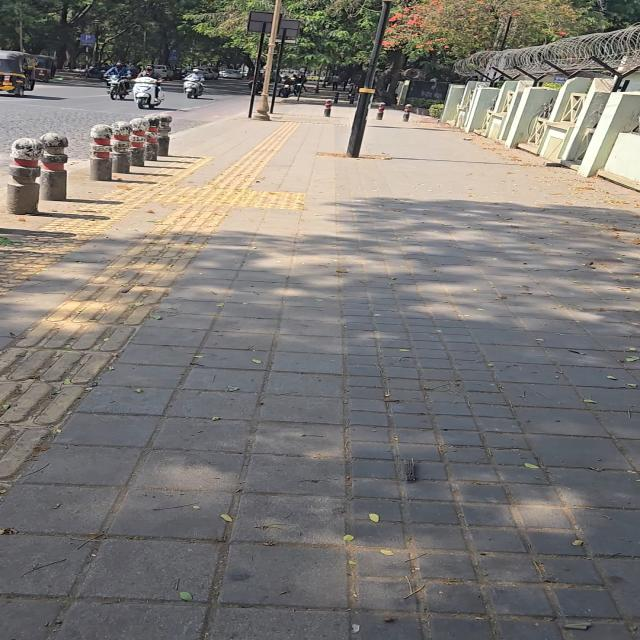bench: (7, 138, 43, 214), (40, 133, 68, 200), (90, 125, 111, 181), (112, 121, 132, 173), (130, 118, 148, 166), (145, 115, 160, 161), (158, 114, 172, 156), (377, 103, 385, 120), (403, 104, 411, 121), (324, 100, 331, 116), (349, 92, 356, 104), (334, 92, 339, 103)
bike: (346, 0, 391, 157), (254, 0, 282, 120), (248, 24, 265, 118), (270, 30, 286, 113), (133, 76, 164, 108), (107, 74, 130, 100), (184, 69, 203, 98), (499, 15, 512, 50), (184, 80, 203, 98), (280, 84, 290, 97)
